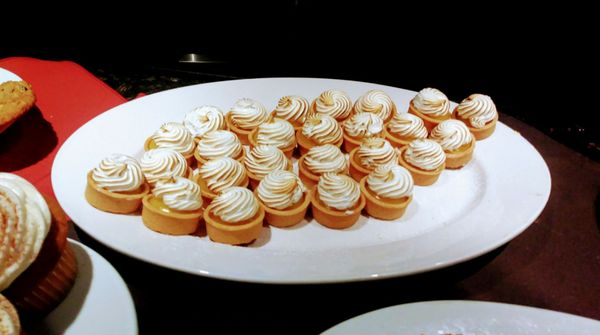curry: (1, 54, 551, 327)
sushi: (0, 173, 52, 292), (84, 155, 150, 214), (203, 187, 266, 246), (141, 177, 204, 235), (255, 169, 311, 228), (311, 171, 365, 230), (191, 157, 248, 212), (360, 164, 414, 221), (0, 67, 36, 137), (297, 144, 348, 192), (347, 137, 397, 182)
